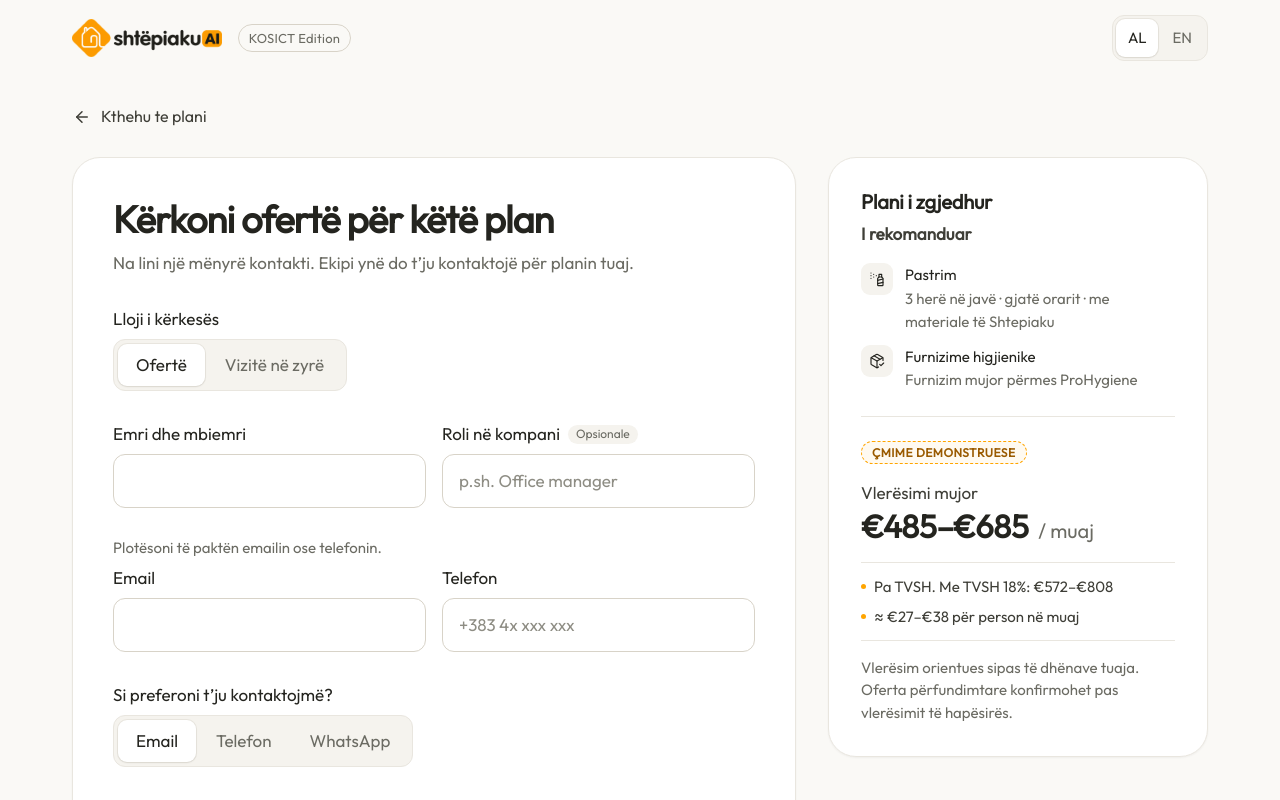
Test: contact submission › validates that email or phone is present before sending
Type "Arta" into the field labelled "Emri dhe mbiemri" at (270, 481), box [114,455,425,507]
(page scrolled)
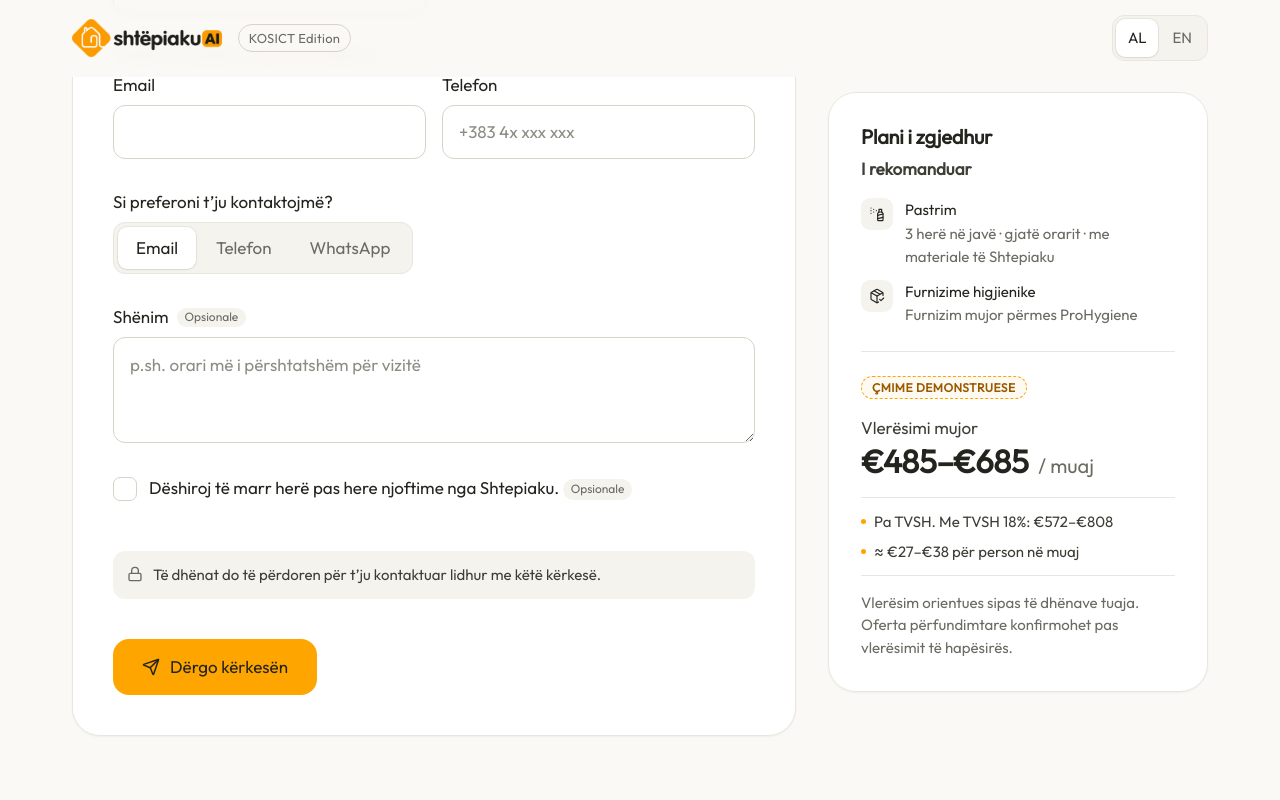
Click the button "Dërgo kërkesën" at (215, 667), box [113,639,317,695]
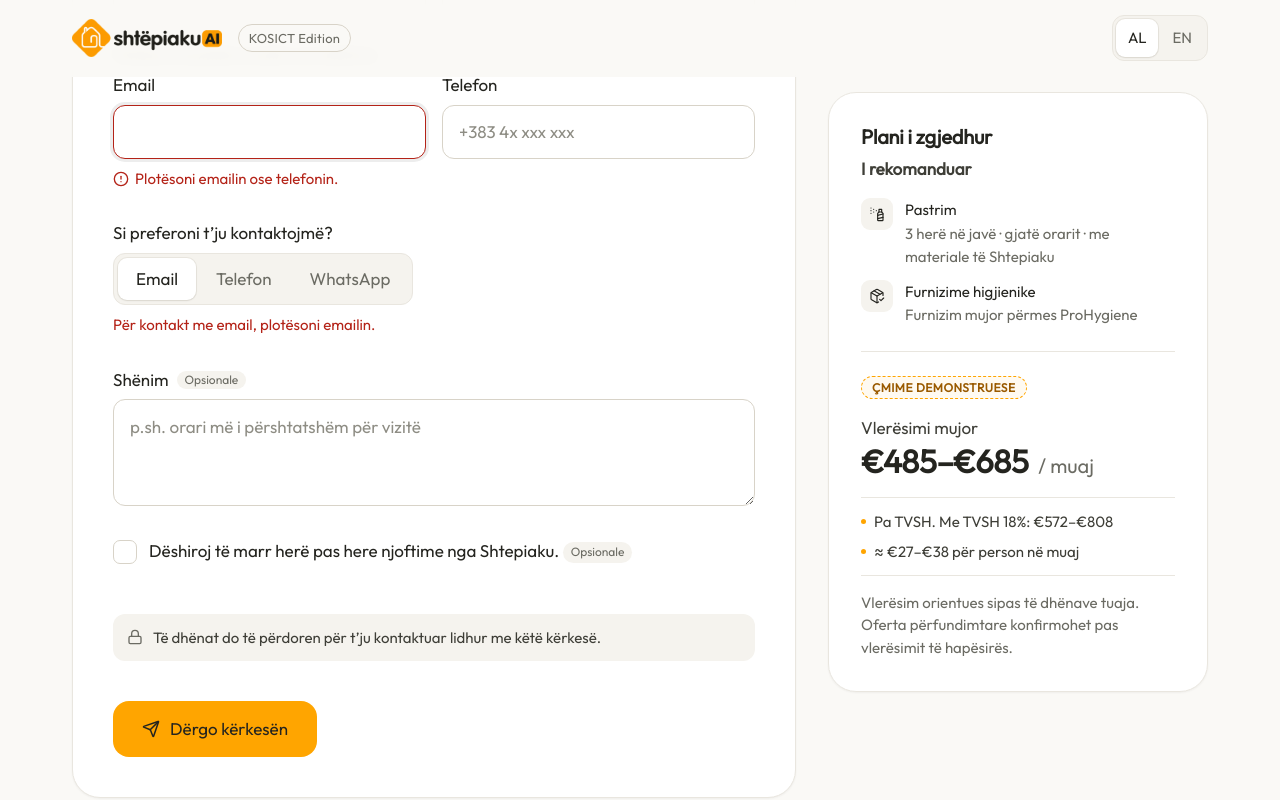
Now the text "Plotësoni emailin ose telefonin." is shown, box [113,169,338,188]
